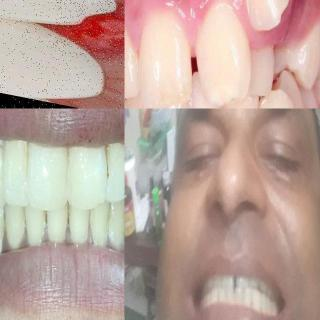Gum Swelling: (65, 0, 124, 74)
maligned: (189, 10, 259, 91), (243, 37, 278, 95), (237, 0, 299, 32), (262, 93, 299, 109)
plaque: (3, 144, 28, 208), (97, 131, 116, 187), (0, 206, 18, 254), (81, 205, 98, 253), (19, 208, 37, 250), (103, 201, 119, 247), (37, 208, 53, 245), (62, 202, 76, 242), (116, 195, 125, 251)
